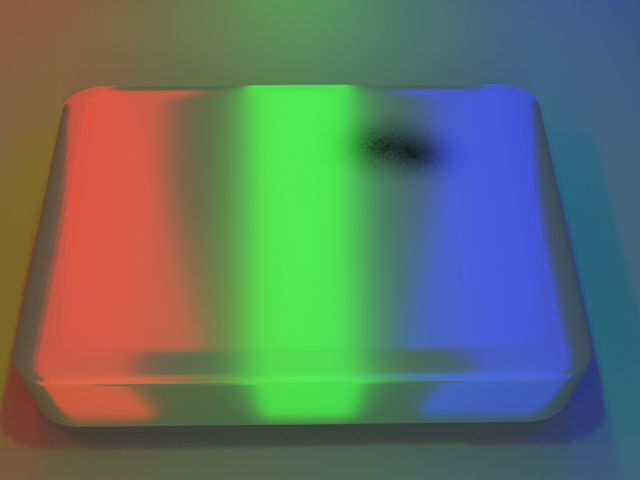stain: (305, 79, 524, 194)
